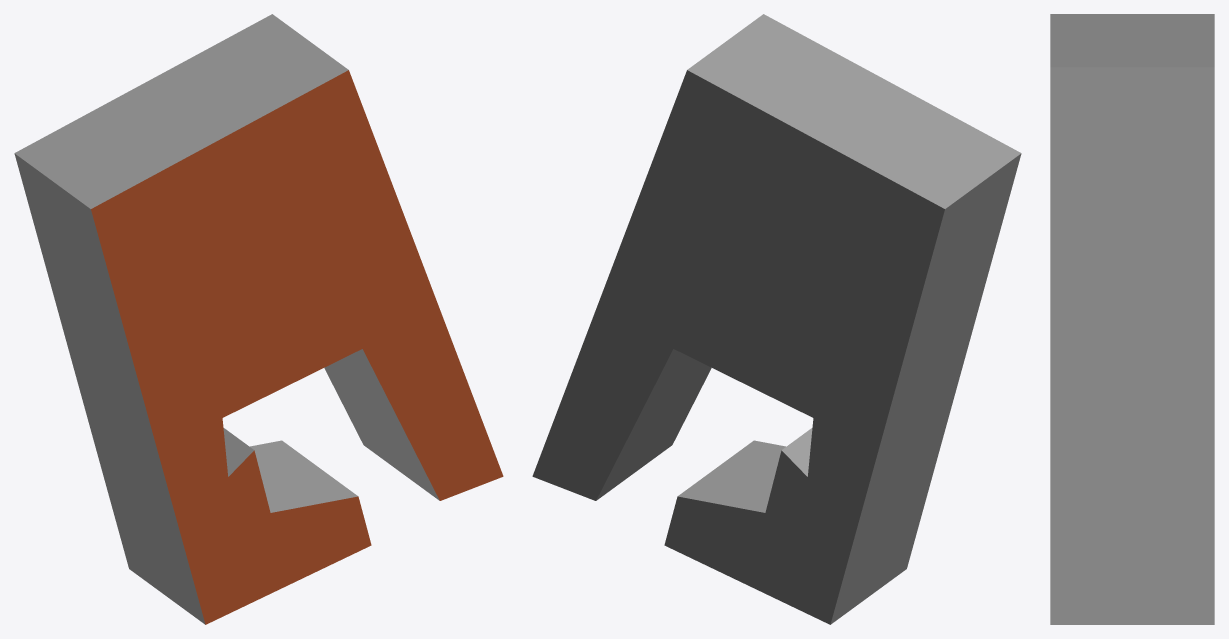
The model's file is construction_6117_assumed_A_Casa_h6m.obj.
The picture shows the model from 3 angles, left to right: view 1: azimuth 30°, elevation 25°; view 2: azimuth 150°, elevation 25°; view 3: azimuth 270°, elevation 25°; orthographic projection. The views are drawn at different scales.
Parts seen in each view (by area): view 1: construction_6117_assumed_A_Casa; view 2: construction_6117_assumed_A_Casa; view 3: construction_6117_assumed_A_Casa.
Boxes of the visible parts, <box> form: construction_6117_assumed_A_Casa: <box>14,14,503,624</box>; construction_6117_assumed_A_Casa: <box>532,14,1021,624</box>; construction_6117_assumed_A_Casa: <box>1050,14,1214,624</box>.
Bounding box in the file's own units: 18.68 × 22.5 × 6.
